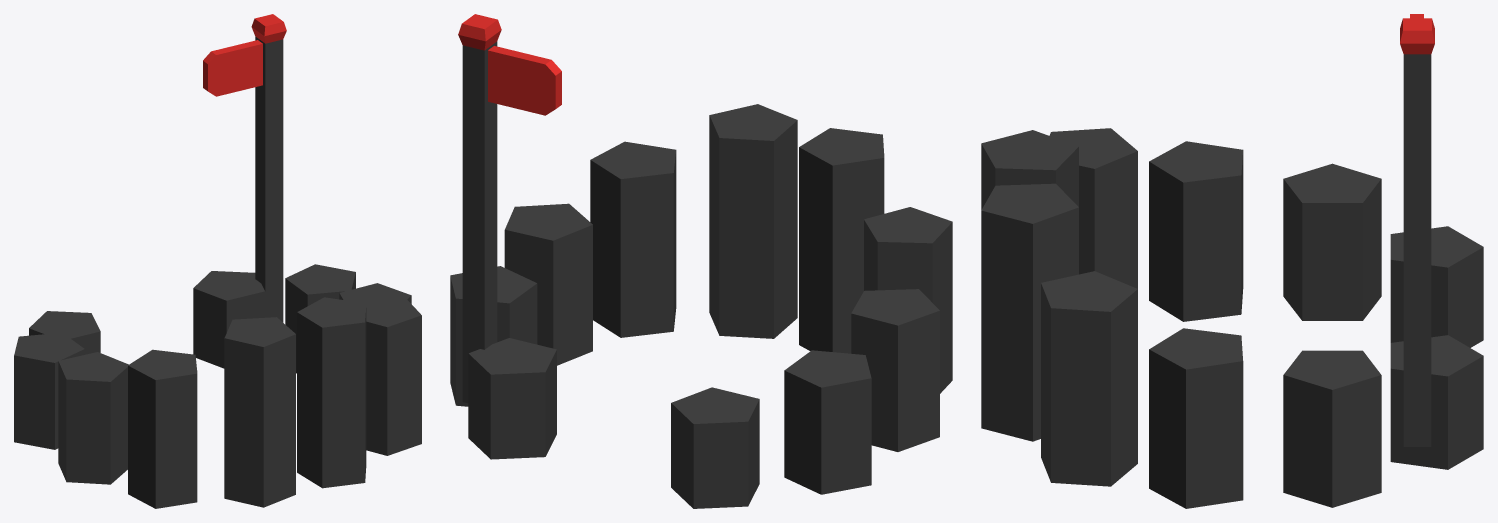
The model's file is PillarsLevel2.fbx.
3 views of the same model, side by side, from view 1: azimuth 30°, elevation 25°; view 2: azimuth 150°, elevation 25°; view 3: azimuth 270°, elevation 25° (orthographic). The views are drawn at different scales.
Parts seen in each view (by area): view 1: Cube.183; view 2: Cube.183; view 3: Cube.183.
Boxes of the visible parts, <box> form: Cube.183: <box>14,14,421,508</box>; Cube.183: <box>450,14,952,508</box>; Cube.183: <box>981,14,1483,508</box>.
Bounding box in the file's own units: 165 × 151 × 154.
